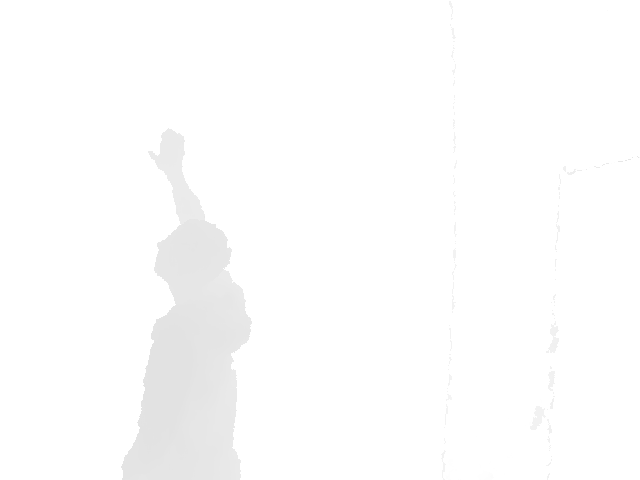hand: (146, 127, 186, 172)
head: (153, 218, 233, 292)
person: (118, 127, 254, 480)
